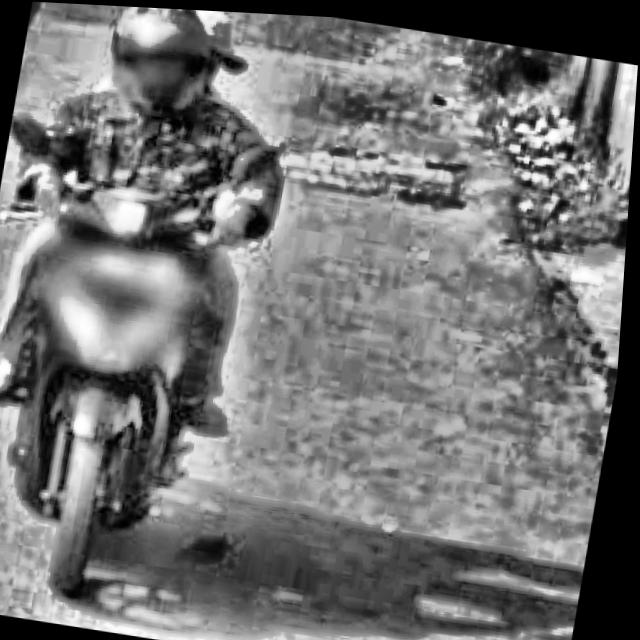motorcycle: (0, 92, 315, 621)
